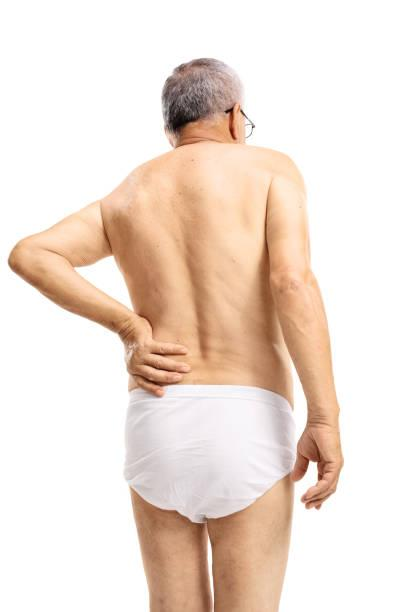Human: (37, 56, 339, 602)
